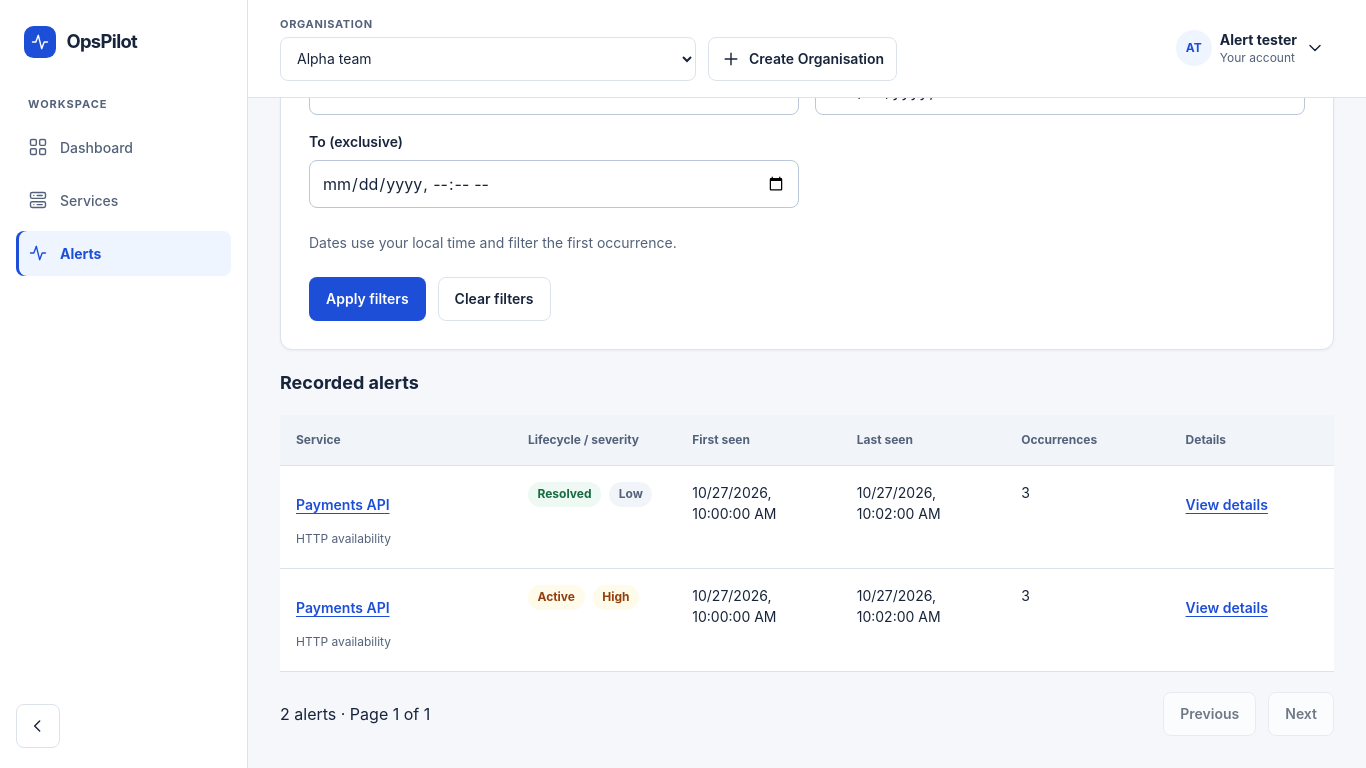
Test: registry shows real active/resolved alerts, names, category, counts and details navigation
The image size is (1366, 768).
(page scrolled)
Check: the text "Active" is shown, box [528,585,585,610]
Check: the text "Resolved" is shown, box [528,482,601,506]
Click the link named "View alert alert-1" at (1227, 607), box [1186,599,1268,616]
(page scrolled)
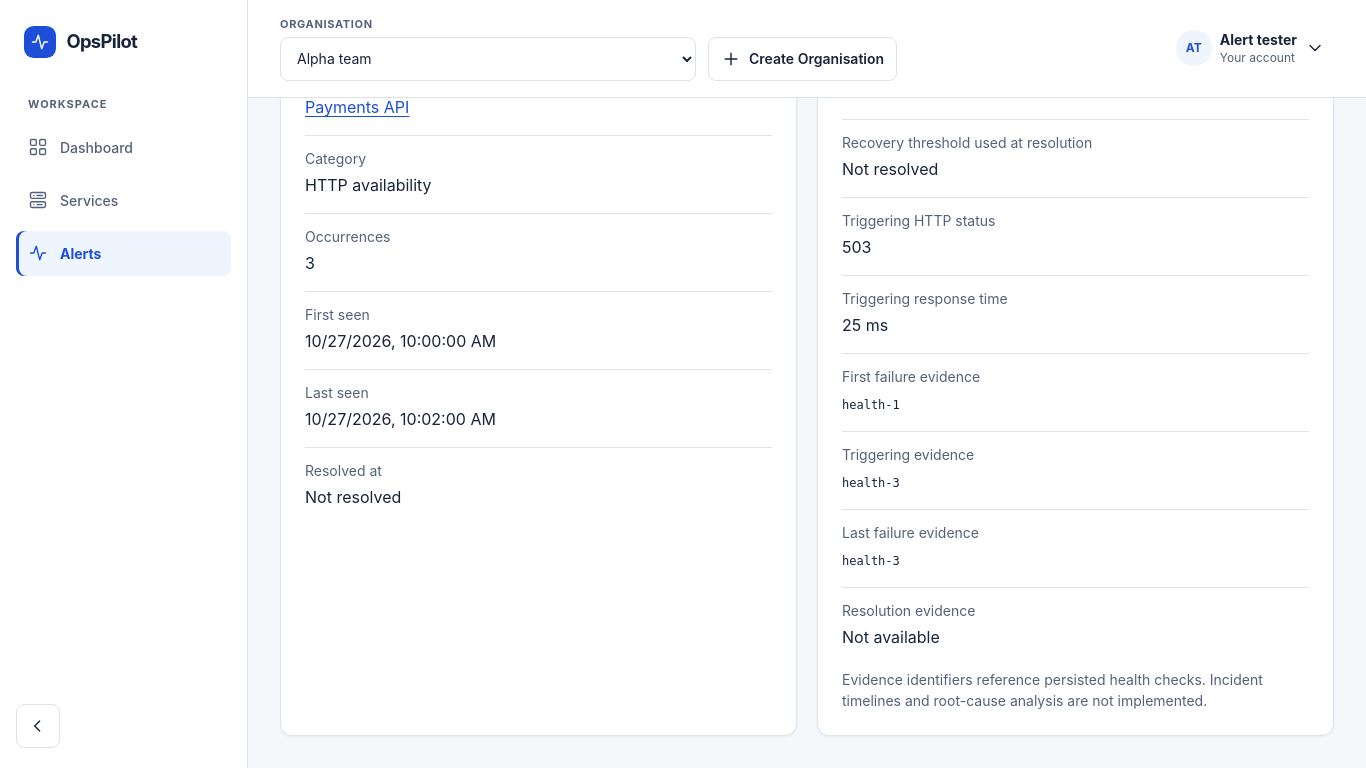
Check: the text "health-1" is shown, box [842,398,900,412]
Check: the text "503" is shown, box [842,237,872,257]
Check: the text "25 ms" is shown, box [842,315,888,335]
